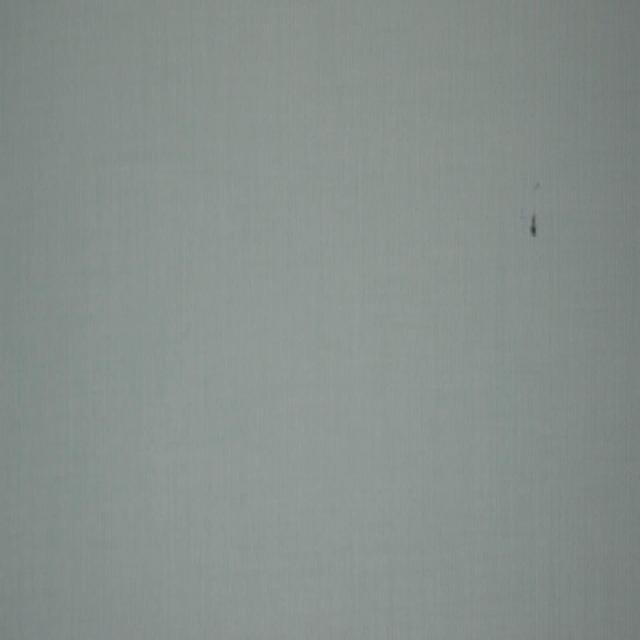dirty: (530, 214, 538, 236)
